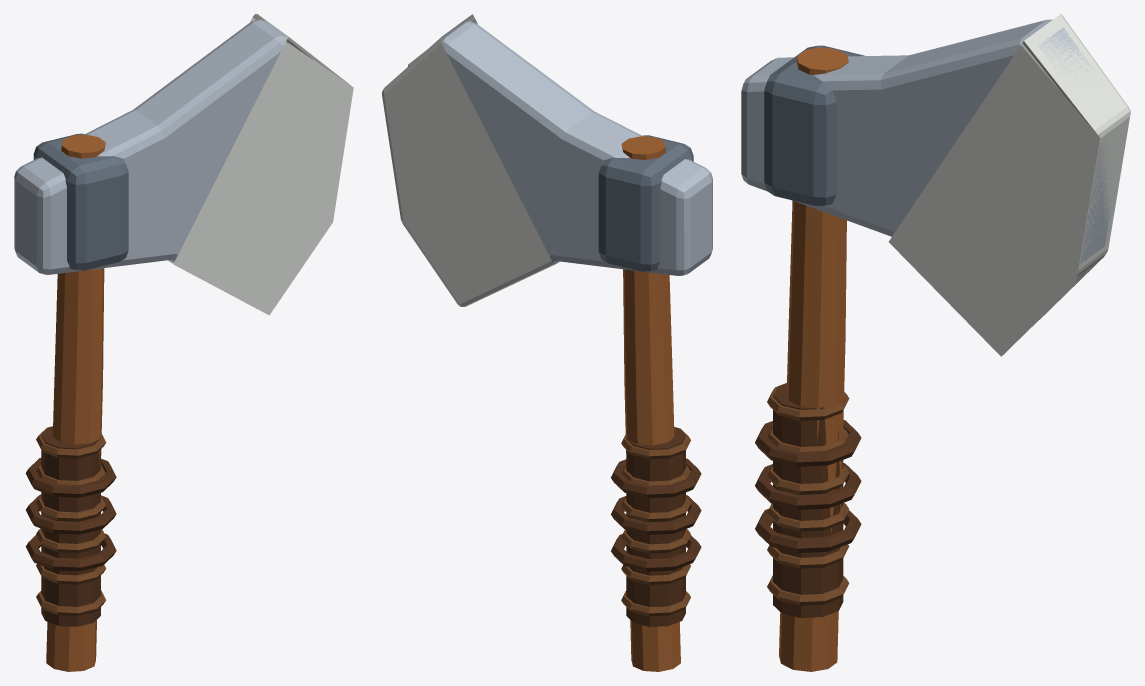
Rendered from axe.glb.
3 views of the same model, side by side, from view 1: azimuth 30°, elevation 25°; view 2: azimuth 150°, elevation 25°; view 3: azimuth 330°, elevation 25° (orthographic). The views are drawn at different scales.
Visible parts, largest first — view 1: Sharpened axe cutting edge.001, Forged crescent axe blade.001, Axe ash handle.001, Iron axe socket.001, Leather axe grip.001, Woodland equipment worn binding.002, Woodland equipment worn binding, Woodland equipment worn binding.001, Grip wrapping.011, Grip wrapping.009, Grip wrapping.006, Grip wrapping.008 (+1 smaller); view 2: Forged crescent axe blade.001, Sharpened axe cutting edge.001, Axe ash handle.001, Iron axe socket.001, Leather axe grip.001, Woodland equipment worn binding.002, Woodland equipment worn binding, Woodland equipment worn binding.001, Grip wrapping.011, Grip wrapping.008, Grip wrapping.009, Grip wrapping.006 (+1 smaller); view 3: Sharpened axe cutting edge.001, Forged crescent axe blade.001, Axe ash handle.001, Iron axe socket.001, Leather axe grip.001, Woodland equipment worn binding.002, Woodland equipment worn binding, Woodland equipment worn binding.001, Grip wrapping.006, Grip wrapping.008, Grip wrapping.009, Grip wrapping.011 (+1 smaller).
Part boxes in pixels (x1,y1,x2,y2): Sharpened axe cutting edge.001: (168,14,353,315); Forged crescent axe blade.001: (14,19,287,274); Axe ash handle.001: (46,134,105,671); Iron axe socket.001: (33,133,128,270); Leather axe grip.001: (41,426,100,626); Woodland equipment worn binding.002: (25,458,116,497); Woodland equipment worn binding: (25,533,116,571); Woodland equipment worn binding.001: (26,494,116,534); Grip wrapping.011: (36,427,106,458); Grip wrapping.009: (36,496,106,521); Grip wrapping.006: (36,590,105,616); Grip wrapping.008: (36,528,105,553); Forged crescent axe blade.001: (440,21,712,275); Sharpened axe cutting edge.001: (382,14,559,306); Axe ash handle.001: (621,136,680,671); Iron axe socket.001: (598,135,693,271); Leather axe grip.001: (626,427,685,626); Woodland equipment worn binding.002: (611,458,701,498); Woodland equipment worn binding: (611,534,701,571); Woodland equipment worn binding.001: (611,495,701,534); Grip wrapping.011: (621,428,690,459); Grip wrapping.008: (621,529,690,553); Grip wrapping.009: (621,496,690,521); Grip wrapping.006: (621,591,690,616); Sharpened axe cutting edge.001: (889,14,1130,356); Forged crescent axe blade.001: (741,19,1112,264); Axe ash handle.001: (779,47,848,671); Iron axe socket.001: (764,45,864,206); Leather axe grip.001: (773,383,843,617); Woodland equipment worn binding.002: (755,420,861,466); Woodland equipment worn binding: (755,508,861,552); Woodland equipment worn binding.001: (755,463,861,509); Grip wrapping.006: (767,575,849,605); Grip wrapping.008: (767,503,849,531); Grip wrapping.009: (767,465,849,494); Grip wrapping.011: (767,383,849,420).
Bounding box in the file's own units: 0.6196 × 1.12 × 0.16.
